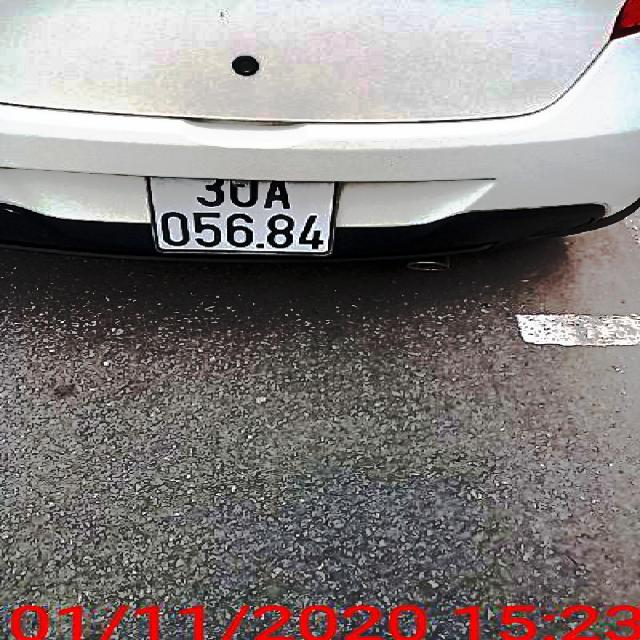license_plate: (151, 174, 339, 253)
